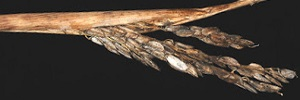RiceSheathBrownRot: (1, 6, 275, 49)
